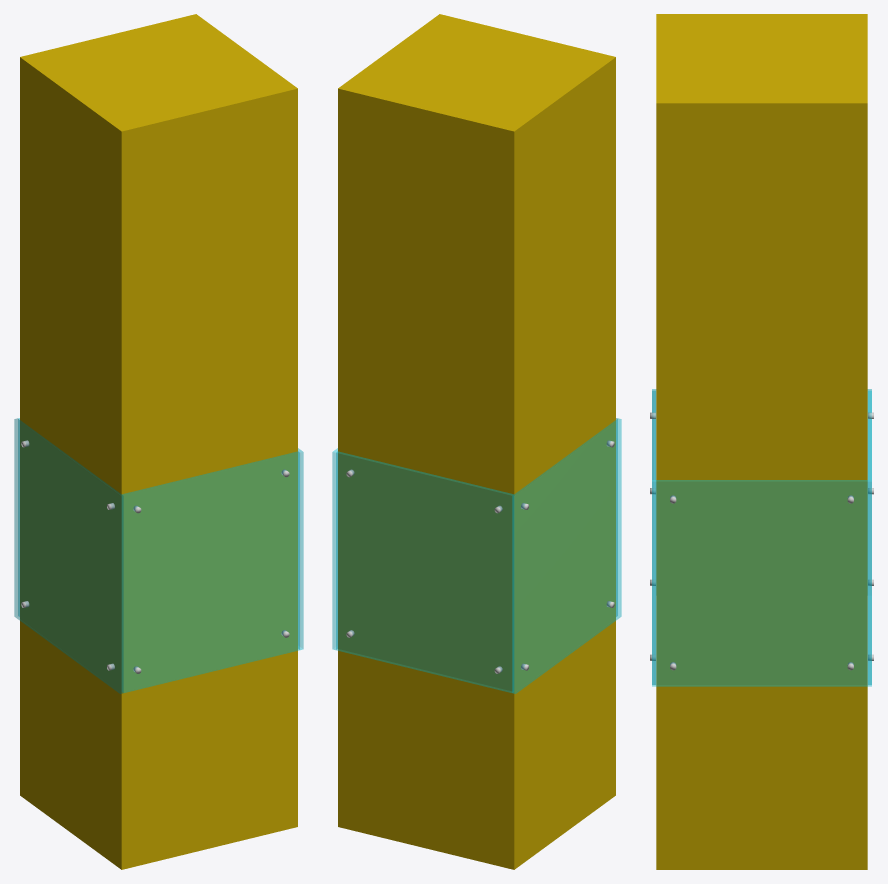
The model's file is pillar.glb.
3 renders of one model, left to right at view 1: azimuth 30°, elevation 25°; view 2: azimuth 150°, elevation 25°; view 3: azimuth 270°, elevation 25°, orthographic. The views are drawn at different scales.
Visible parts, largest first — view 1: Cube.006, Cube.003, Cube, Cube.001; view 2: Cube.006, Cube.002, Cube, Cube.001; view 3: Cube.006, Cube.001, Cube.002, Cube.003, Cube.
Boxes of the visible parts, x1,y1,x2,y2 form: Cube.006: (20, 14, 297, 869); Cube.003: (122, 451, 299, 692); Cube: (14, 418, 123, 693); Cube.001: (298, 448, 303, 649); Cube.006: (338, 14, 615, 869); Cube.002: (336, 451, 513, 692); Cube: (512, 418, 621, 693); Cube.001: (332, 448, 337, 649); Cube.006: (656, 14, 867, 869); Cube.001: (652, 480, 871, 686); Cube.002: (868, 391, 871, 684); Cube.003: (652, 391, 655, 684); Cube: (652, 389, 871, 479).
Bounding box in the file's own units: 1.06 × 4 × 1.06.
